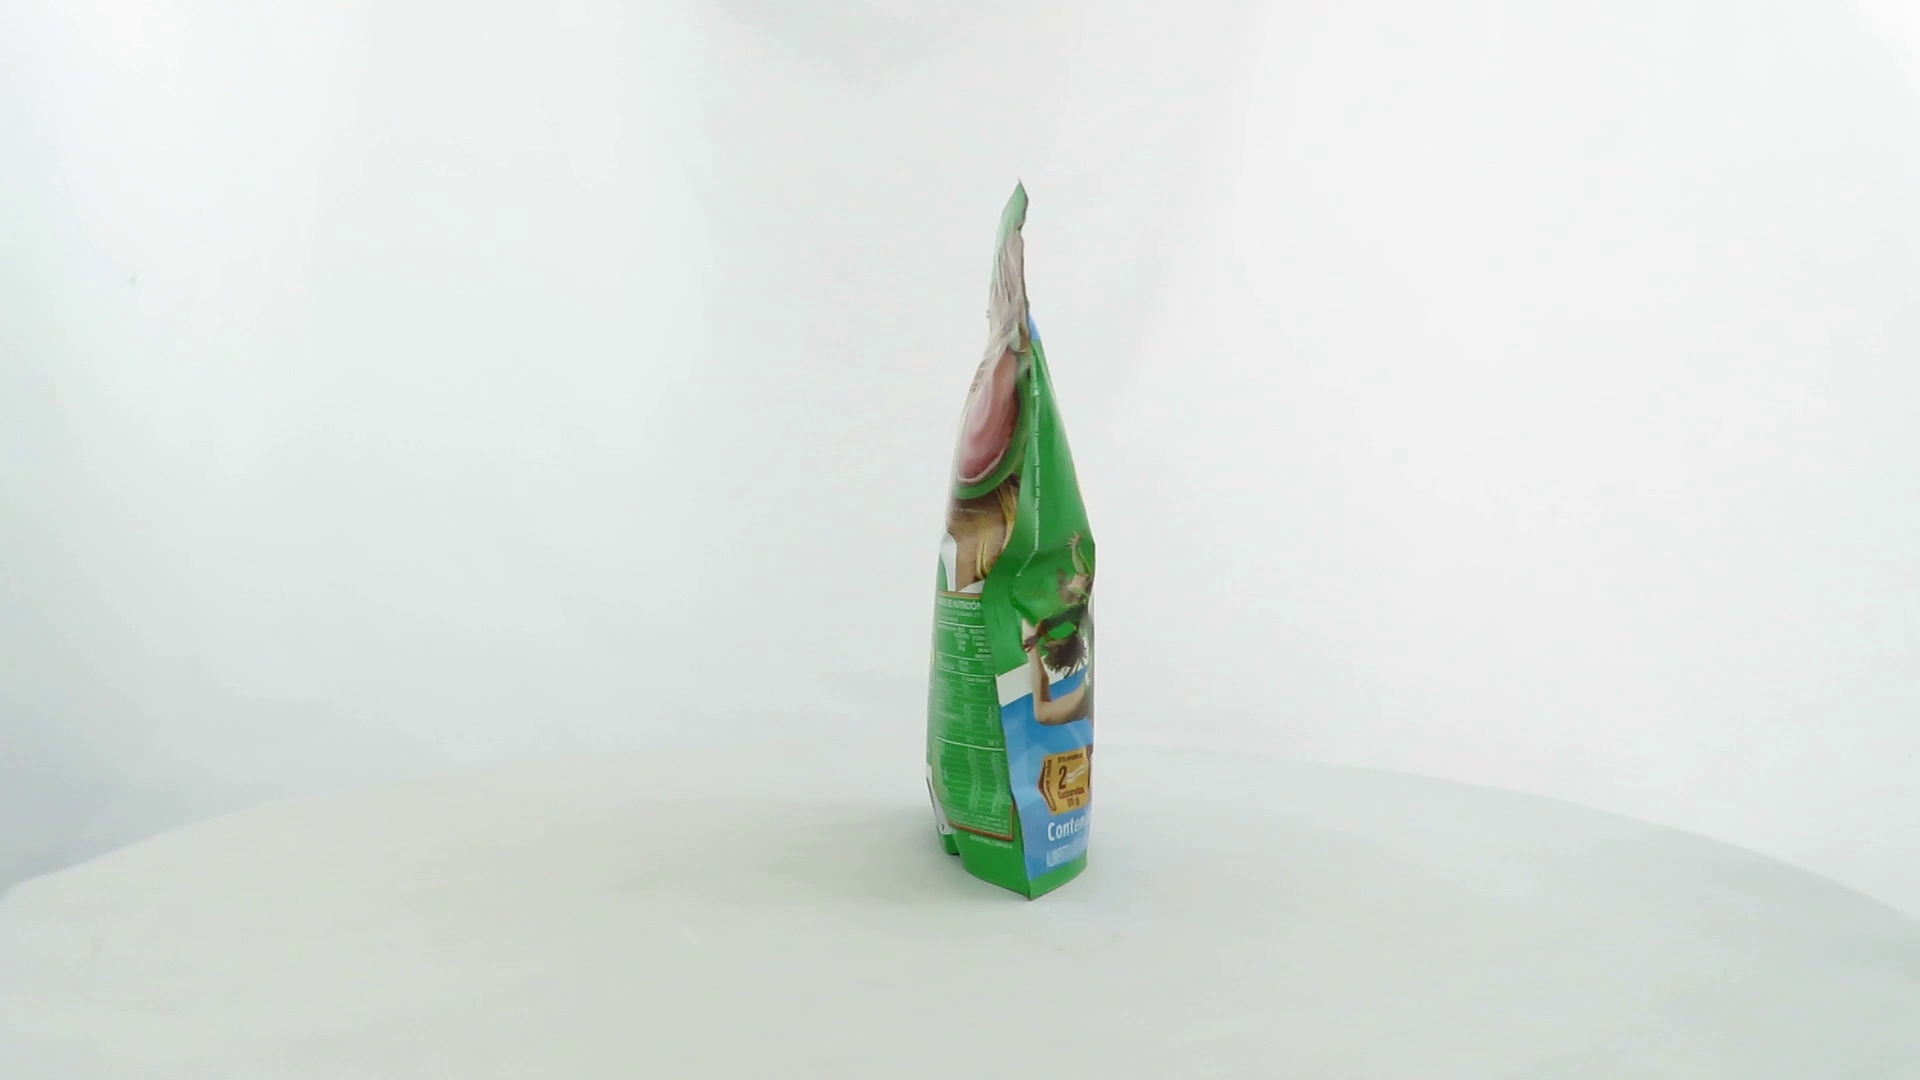COL0170205DYP20000: (920, 171, 1102, 909)
